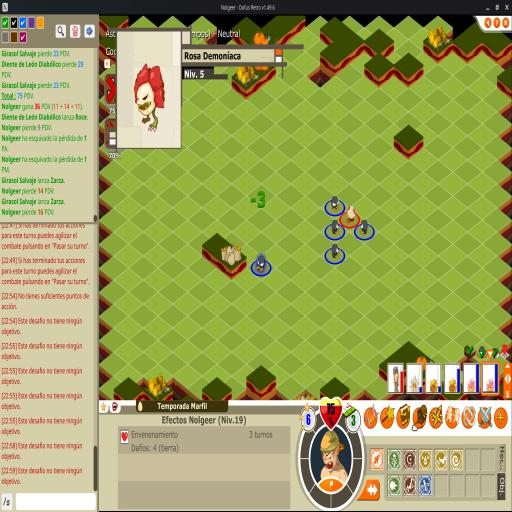Enemigos: (359, 219, 370, 236), (256, 255, 267, 272), (331, 195, 341, 213), (331, 219, 341, 236), (331, 243, 341, 259)
Personaje: (346, 204, 356, 224)
